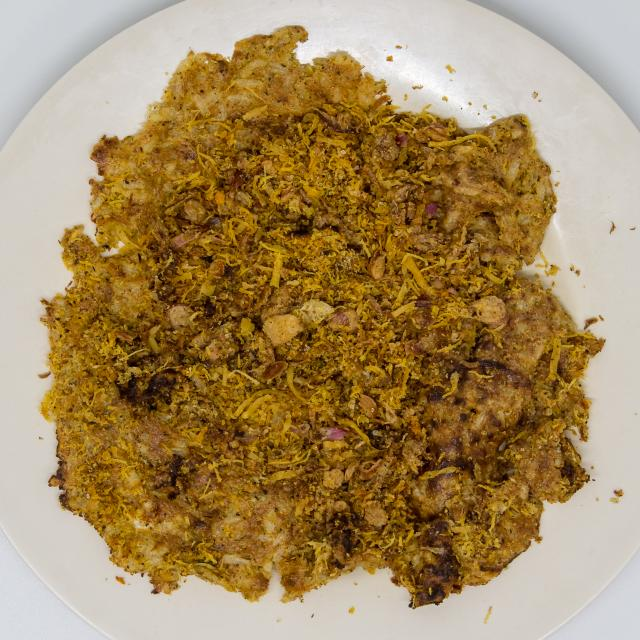Kerak-Telor: (42, 16, 608, 610)
